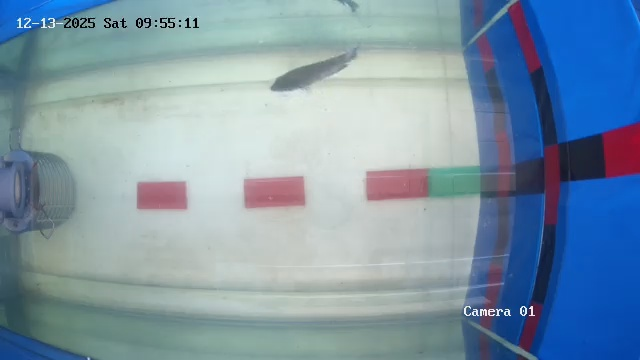fish: (264, 42, 357, 106)
